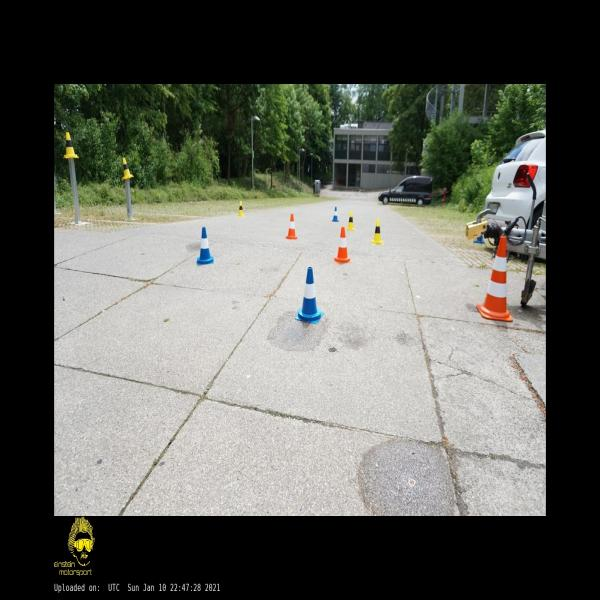blue_cone: (295, 266, 324, 324), (196, 227, 214, 264), (332, 206, 338, 222)
large_orange_cone: (476, 236, 513, 322)
orange_cone: (334, 227, 350, 263), (285, 214, 298, 240)
yellow_cone: (63, 132, 79, 158), (371, 219, 384, 244), (122, 158, 134, 179), (346, 211, 355, 230), (237, 201, 244, 216)
